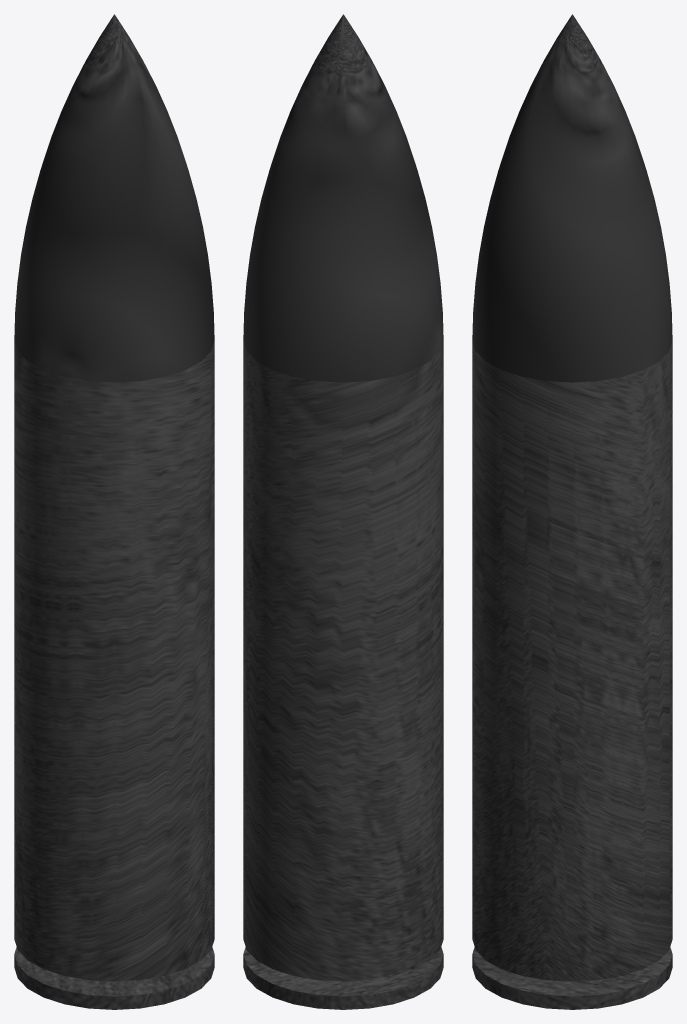
Rendered from Bullet.dae.
The picture shows the model from 3 angles, left to right: view 1: azimuth 30°, elevation 25°; view 2: azimuth 150°, elevation 25°; view 3: azimuth 270°, elevation 25°; orthographic projection.
Parts seen in each view (by area): view 1: Bullet; view 2: Bullet; view 3: Bullet.
Part boxes in pixels (box(x1,y1,x2,y2)): Bullet: box(14, 14, 214, 1009); Bullet: box(243, 14, 443, 1009); Bullet: box(472, 14, 672, 1009).
Size of the model in its own units: 114 by 114 by 596.
Materials: 1 (1 with a texture image).
